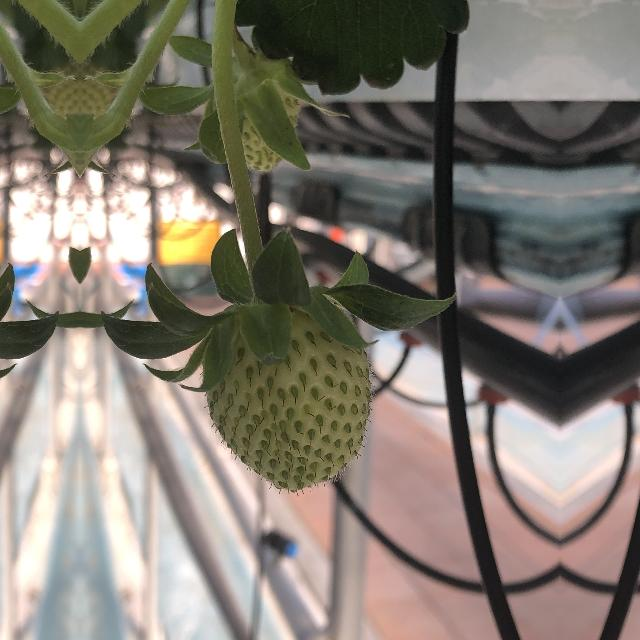Health_25: (189, 300, 385, 492)
